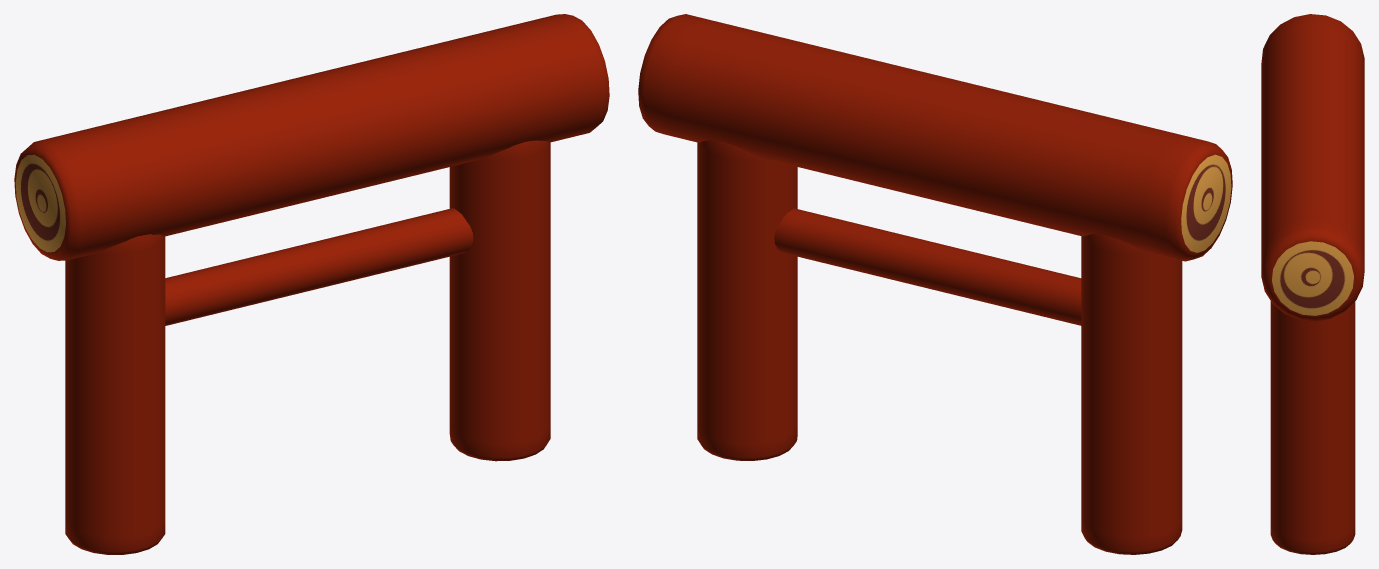
Rendered from ArchJapanese.fbx.
3 renders of one model, left to right at view 1: azimuth 30°, elevation 25°; view 2: azimuth 150°, elevation 25°; view 3: azimuth 270°, elevation 25°, orthographic. The views are drawn at different scales.
Visible parts, largest first — view 1: LogsBig4, LogsBig3, LogsBig, LogsBig2; view 2: LogsBig4, LogsBig3, LogsBig, LogsBig2; view 3: LogsBig4, LogsBig.
Boxes of the visible parts, x1,y1,x2,y2 form: LogsBig4: [14, 14, 609, 260]; LogsBig3: [65, 234, 165, 554]; LogsBig: [449, 140, 550, 461]; LogsBig2: [165, 208, 473, 325]; LogsBig4: [638, 14, 1232, 261]; LogsBig3: [1081, 234, 1182, 554]; LogsBig: [697, 140, 797, 460]; LogsBig2: [774, 208, 1081, 325]; LogsBig4: [1261, 14, 1364, 321]; LogsBig: [1270, 301, 1355, 554].
Size of the model in its own units: 13.67 by 9.79 by 2.68.
1 material, 1 textured.
